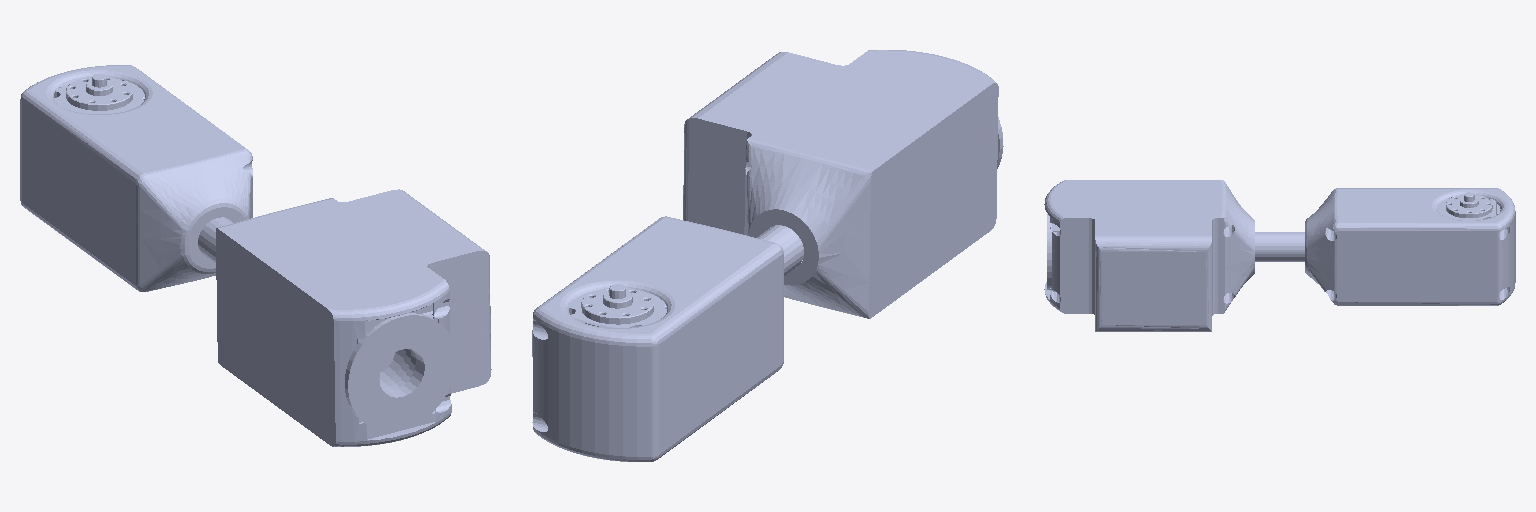
robot.urdf — Link2^Full Arm Assembly_w_wrist:
<robot
  name="Link2^Full Arm Assembly_w_wrist">
  <link
    name="L2">
    <inertial>
      <origin
        xyz="0.0103624990593226 -0.0914752636052165 0.00471555485248985"
        rpy="0 0 0" />
      <mass
        value="0.186673533806297" />
      <inertia
        ixx="0.00129660538773454"
        ixy="0.000255209184571267"
        ixz="-0.000361481759678243"
        iyy="0.000962053058387565"
        iyz="0.000295798516238215"
        izz="0.00124896922633267" />
    </inertial>
    <visual>
      <origin
        xyz="0 0 0"
        rpy="0 0 0" />
      <geometry>
        <mesh
          filename="package://Link2^Full Arm Assembly_w_wrist/meshes/L2.STL" />
      </geometry>
      <material
        name="">
        <color
          rgba="0.792156862745098 0.819607843137255 0.933333333333333 1" />
      </material>
    </visual>
    <collision>
      <origin
        xyz="0 0 0"
        rpy="0 0 0" />
      <geometry>
        <mesh
          filename="package://Link2^Full Arm Assembly_w_wrist/meshes/L2.STL" />
      </geometry>
    </collision>
  </link>
</robot>

--- Render facts (derived) ---
The picture shows the robot from 3 angles, left to right: view 1: azimuth 30°, elevation 25°; view 2: azimuth 150°, elevation 25°; view 3: azimuth 270°, elevation 25°; orthographic projection.
Model Link2^Full Arm Assembly_w_wrist with 1 links and 0 joints (none), rooted at L2, posed all joints at 0.
Visible links, largest first — view 1: L2; view 2: L2; view 3: L2.
Boxes of the visible links, x1,y1,x2,y2 form: L2: (20, 65, 491, 446); L2: (532, 50, 1003, 461); L2: (1044, 180, 1515, 331).
Bounding box of the posed robot: 0.062 × 0.1945 × 0.046 m (x, y, z).
Meshes: 1 distinct files referenced, 1 mesh visuals loaded (1 binary STL).